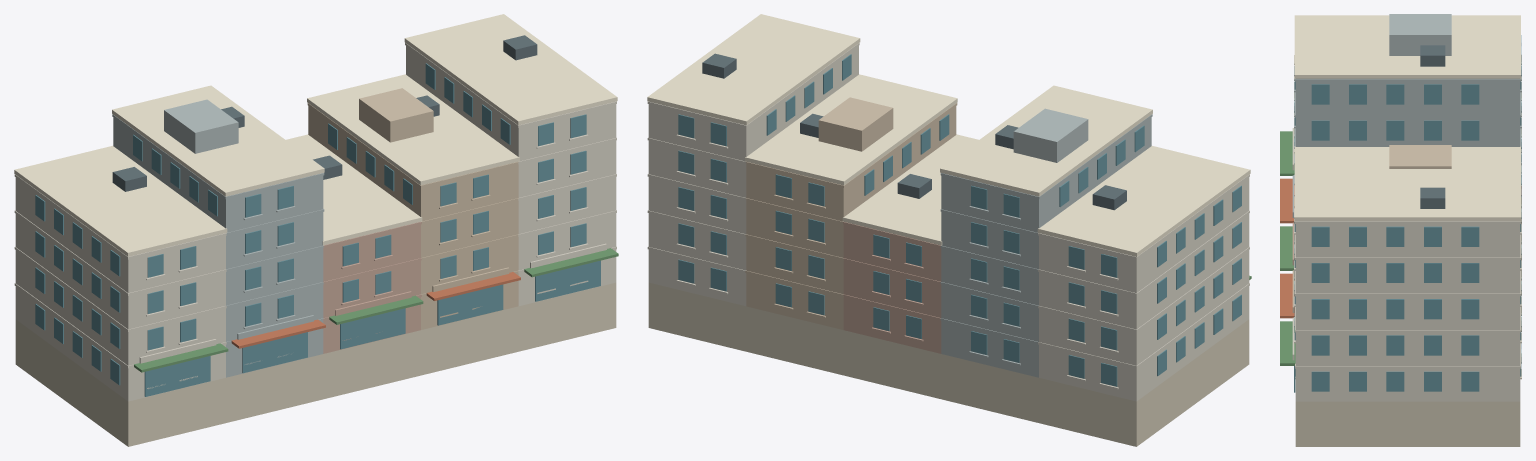
File: streetwall-1.glb
3 renders of one model, left to right at view 1: azimuth 30°, elevation 25°; view 2: azimuth 150°, elevation 25°; view 3: azimuth 270°, elevation 25°, orthographic.
Size of the model in its own units: 45.16 by 22.2 by 19.39.
